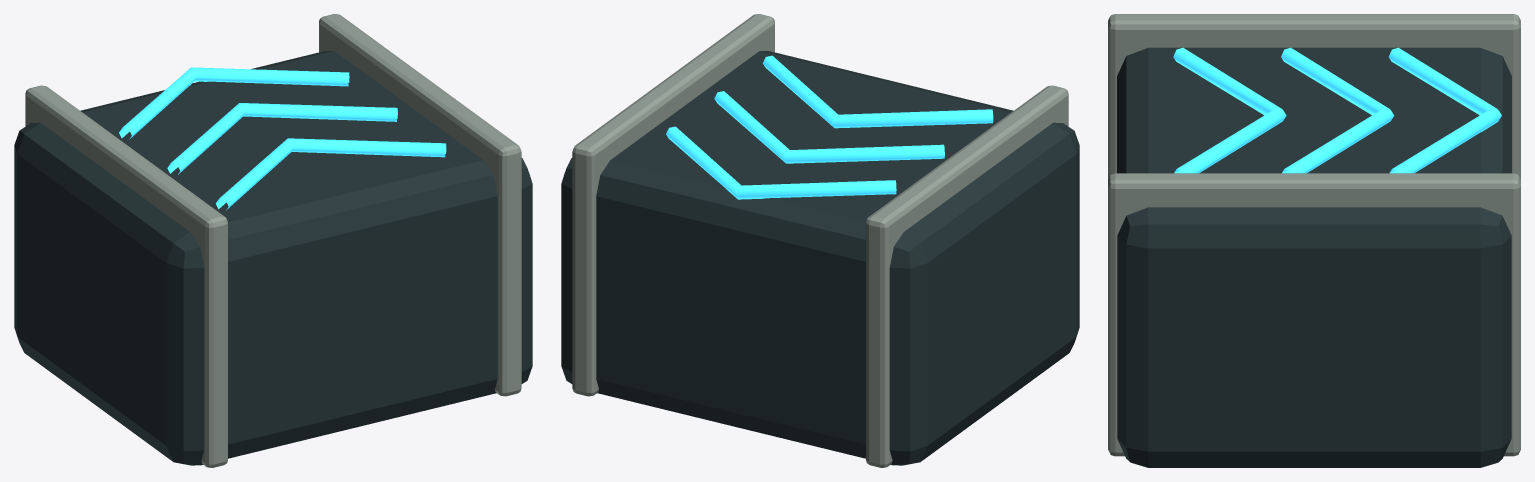
File: battlecity-cloak-item.glb
3 renders of one model, left to right at view 1: azimuth 30°, elevation 25°; view 2: azimuth 150°, elevation 25°; view 3: azimuth 270°, elevation 25°, orthographic. The views are drawn at different scales.
Parts seen in each view (by area): view 1: DX dark machinery, Brushed steel, Orb cyan filament glow; view 2: DX dark machinery, Brushed steel, Orb cyan filament glow; view 3: DX dark machinery, Brushed steel, Orb cyan filament glow.
Part boxes in pixels (x1,y1,x2,y2): DX dark machinery: [14, 51, 532, 465]; Brushed steel: [25, 14, 521, 467]; Orb cyan filament glow: [119, 67, 446, 210]; DX dark machinery: [561, 51, 1079, 465]; Brushed steel: [572, 14, 1068, 467]; Orb cyan filament glow: [666, 55, 993, 199]; DX dark machinery: [1117, 47, 1511, 467]; Brushed steel: [1108, 14, 1520, 456]; Orb cyan filament glow: [1173, 47, 1501, 173].
Size of the model in its own units: 0.52 by 0.35 by 0.46.
